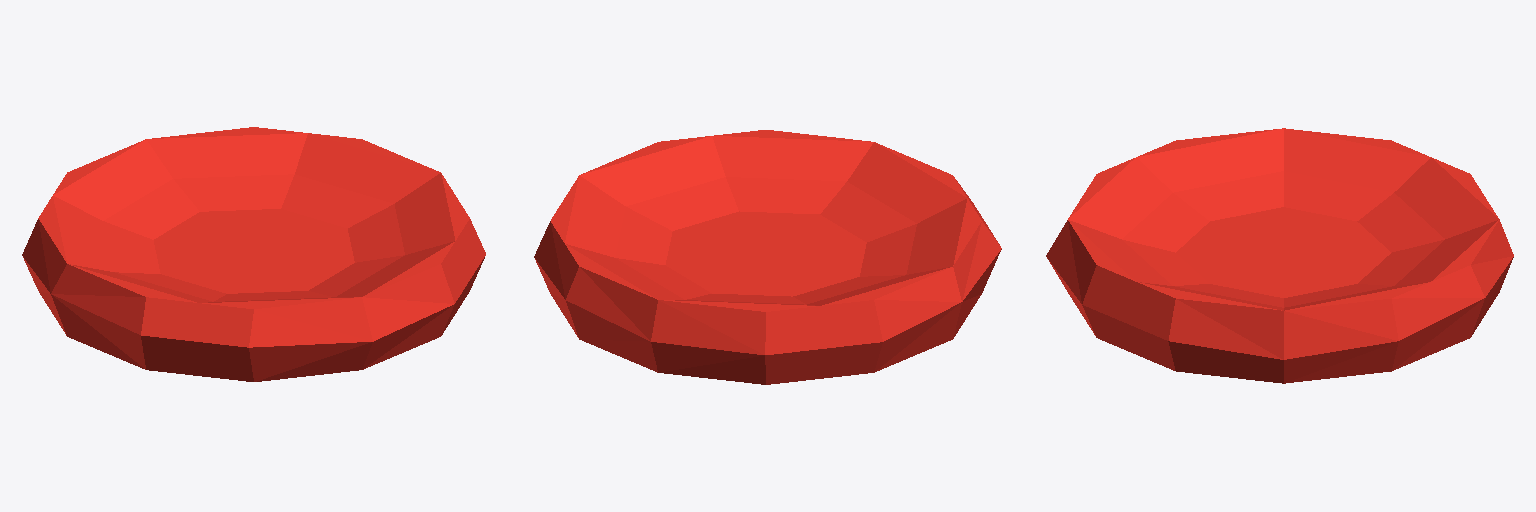
File: model-triangulated.obj
3 views of the same model, side by side, from view 1: azimuth 30°, elevation 25°; view 2: azimuth 150°, elevation 25°; view 3: azimuth 270°, elevation 25° (orthographic).
Parts seen in each view (by area): view 1: group[number redacted]; view 2: group[number redacted]; view 3: group[number redacted].
Boxes of the visible parts, x1=… form: group[number redacted]: x1=22, y1=127, x2=485, y2=381; group[number redacted]: x1=534, y1=130, x2=1001, y2=384; group[number redacted]: x1=1046, y1=128, x2=1513, y2=383.
Size of the model in its own units: 0.63 by 0.11 by 0.64.